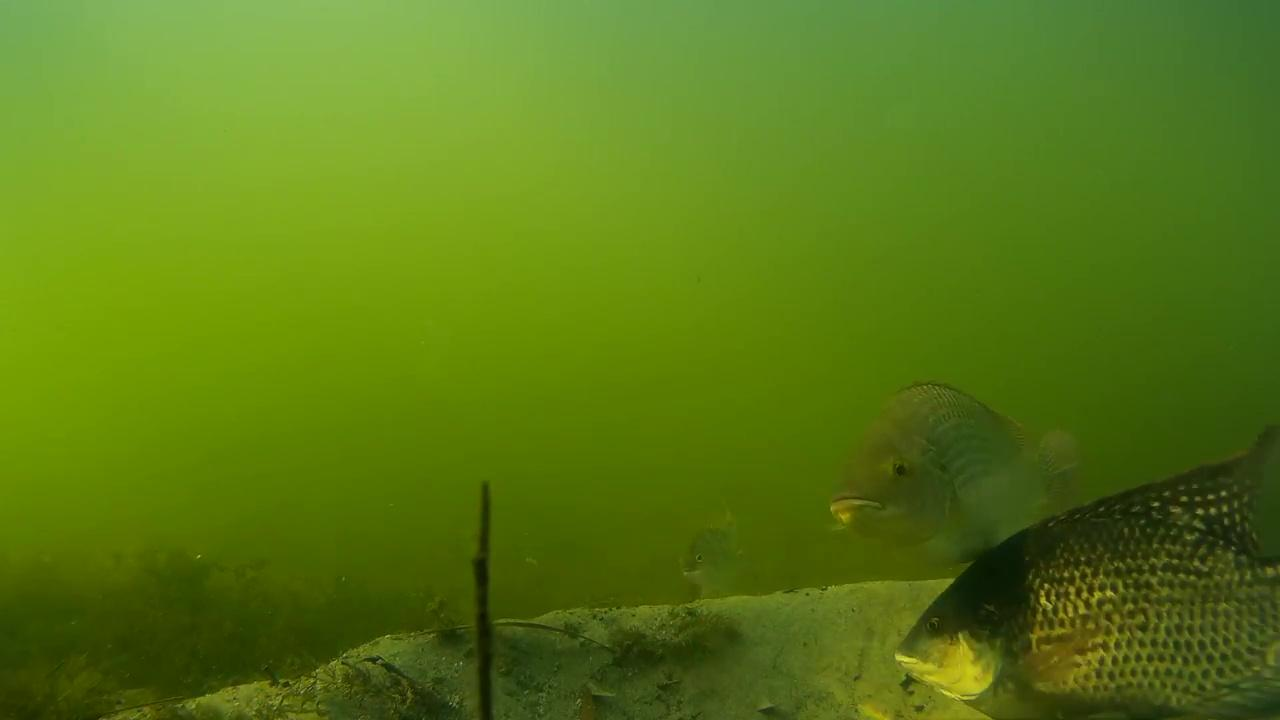Tilapia: (891, 430, 1280, 720), (831, 380, 1100, 566)
